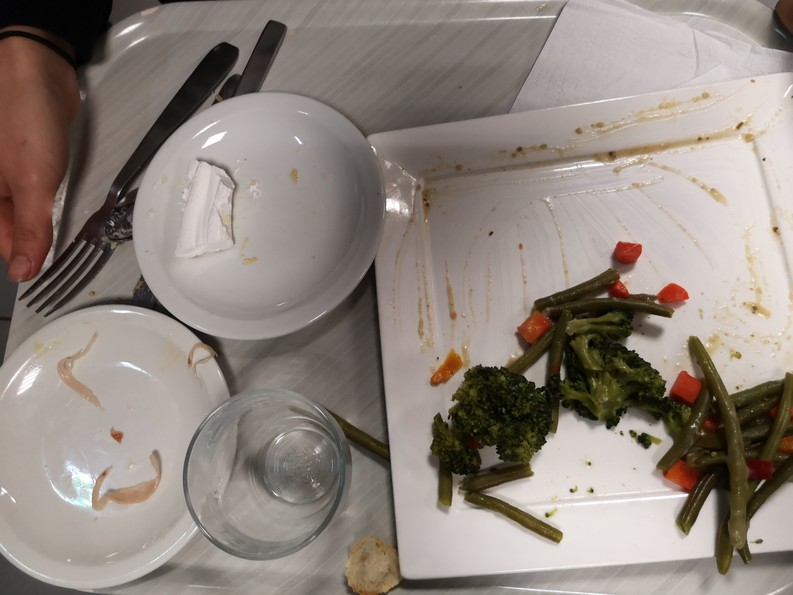cup: (173, 380, 350, 565)
cutlery: (20, 17, 288, 319)
orga: (677, 352, 793, 540), (421, 349, 564, 497), (542, 277, 670, 434), (342, 534, 414, 595)
trash: (534, 3, 792, 119), (171, 160, 251, 267)
